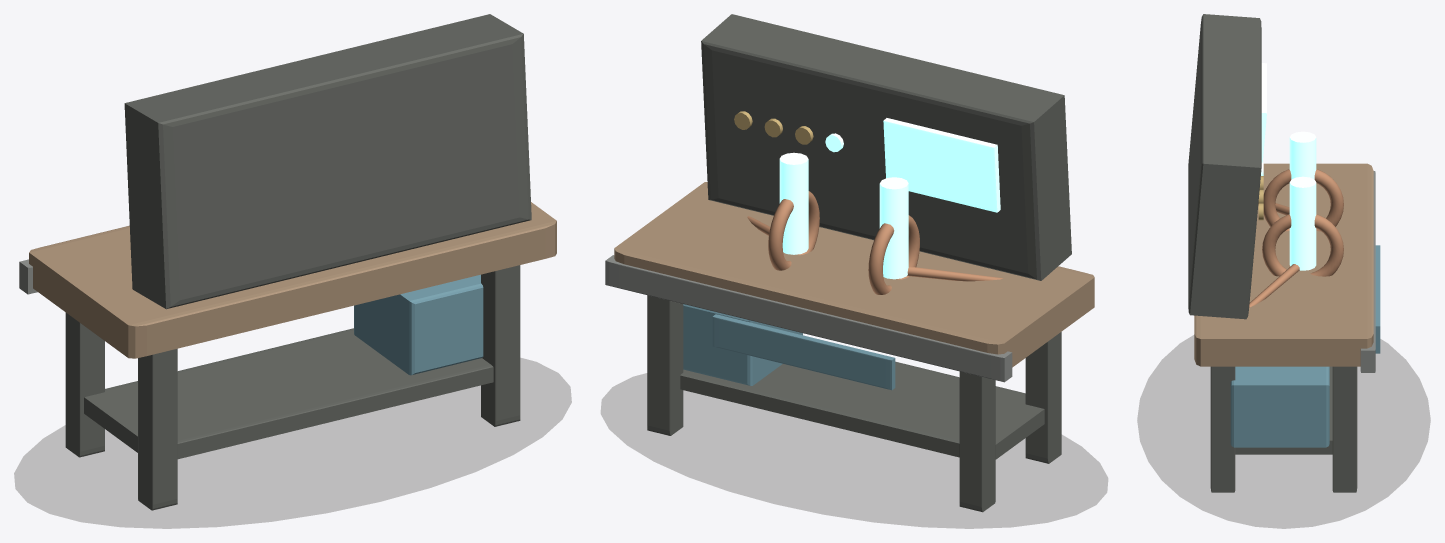
Rendered from craft_station_energy.glb.
3 renders of one model, left to right at view 1: azimuth 30°, elevation 25°; view 2: azimuth 150°, elevation 25°; view 3: azimuth 270°, elevation 25°, orthographic. The views are drawn at different scales.
Visible parts, largest first — view 1: energy_console, painted_contact_shadow, energy_calibration_station_worktop, energy_calibration_station_lower_shelf, insulated_battery_case, energy_calibration_station_leg_-1_1, energy_calibration_station_leg_1_1, energy_calibration_station_leg_-1_-1; view 2: energy_console, painted_contact_shadow, energy_calibration_station_worktop, energy_calibration_station_lower_shelf, energy_calibration_station_front_edge, oscilloscope_screen, energy_calibration_station_type_plate, energy_calibration_station_leg_-1_-1, energy_calibration_station_leg_1_-1, insulated_battery_case, energy_calibration_station_leg_-1_1, energy_cell_1 (+4 smaller); view 3: painted_contact_shadow, energy_calibration_station_worktop, energy_console, insulated_battery_case, energy_calibration_station_leg_1_-1, energy_calibration_station_leg_1_1, energy_cell_1, tesla_coil_ring_1, tesla_coil_ring_0, energy_cell_0, energy_calibration_station_lower_shelf, energy_calibration_station_front_edge (+3 smaller).
Part boxes in pixels (left/top/right/bottom): energy_console: left=124, top=14, right=531, bottom=309; painted_contact_shadow: left=14, top=358, right=571, bottom=528; energy_calibration_station_worktop: left=29, top=202, right=556, bottom=358; energy_calibration_station_lower_shelf: left=84, top=328, right=493, bottom=459; insulated_battery_case: left=354, top=274, right=483, bottom=375; energy_calibration_station_leg_-1_1: left=138, top=348, right=177, bottom=510; energy_calibration_station_leg_1_1: left=481, top=265, right=520, bottom=426; energy_calibration_station_leg_-1_-1: left=65, top=312, right=104, bottom=457; energy_console: left=701, top=14, right=1071, bottom=280; painted_contact_shadow: left=601, top=373, right=1107, bottom=528; energy_calibration_station_worktop: left=614, top=182, right=1094, bottom=367; energy_calibration_station_lower_shelf: left=680, top=361, right=1044, bottom=459; energy_calibration_station_front_edge: left=605, top=255, right=1012, bottom=382; oscilloscope_screen: left=883, top=118, right=1000, bottom=212; energy_calibration_station_type_plate: left=712, top=314, right=895, bottom=390; energy_calibration_station_leg_-1_-1: left=959, top=371, right=995, bottom=512; energy_calibration_station_leg_1_-1: left=647, top=295, right=683, bottom=435; insulated_battery_case: left=683, top=304, right=802, bottom=385; energy_calibration_station_leg_-1_1: left=1025, top=332, right=1061, bottom=463; energy_cell_1: left=779, top=152, right=808, bottom=254; painted_contact_shadow: left=1137, top=335, right=1430, bottom=528; energy_calibration_station_worktop: left=1194, top=163, right=1373, bottom=366; energy_console: left=1188, top=14, right=1261, bottom=319; insulated_battery_case: left=1230, top=366, right=1329, bottom=447; energy_calibration_station_leg_1_-1: left=1332, top=366, right=1357, bottom=492; energy_calibration_station_leg_1_1: left=1210, top=366, right=1235, bottom=492; energy_cell_1: left=1289, top=176, right=1316, bottom=270; tesla_coil_ring_1: left=1262, top=214, right=1343, bottom=276; tesla_coil_ring_0: left=1263, top=169, right=1343, bottom=231; energy_cell_0: left=1289, top=131, right=1316, bottom=179; energy_calibration_station_lower_shelf: left=1235, top=366, right=1332, bottom=454; energy_calibration_station_front_edge: left=1360, top=171, right=1375, bottom=372.
Size of the model in its own units: 2.7 by 1.92 by 1.54.
